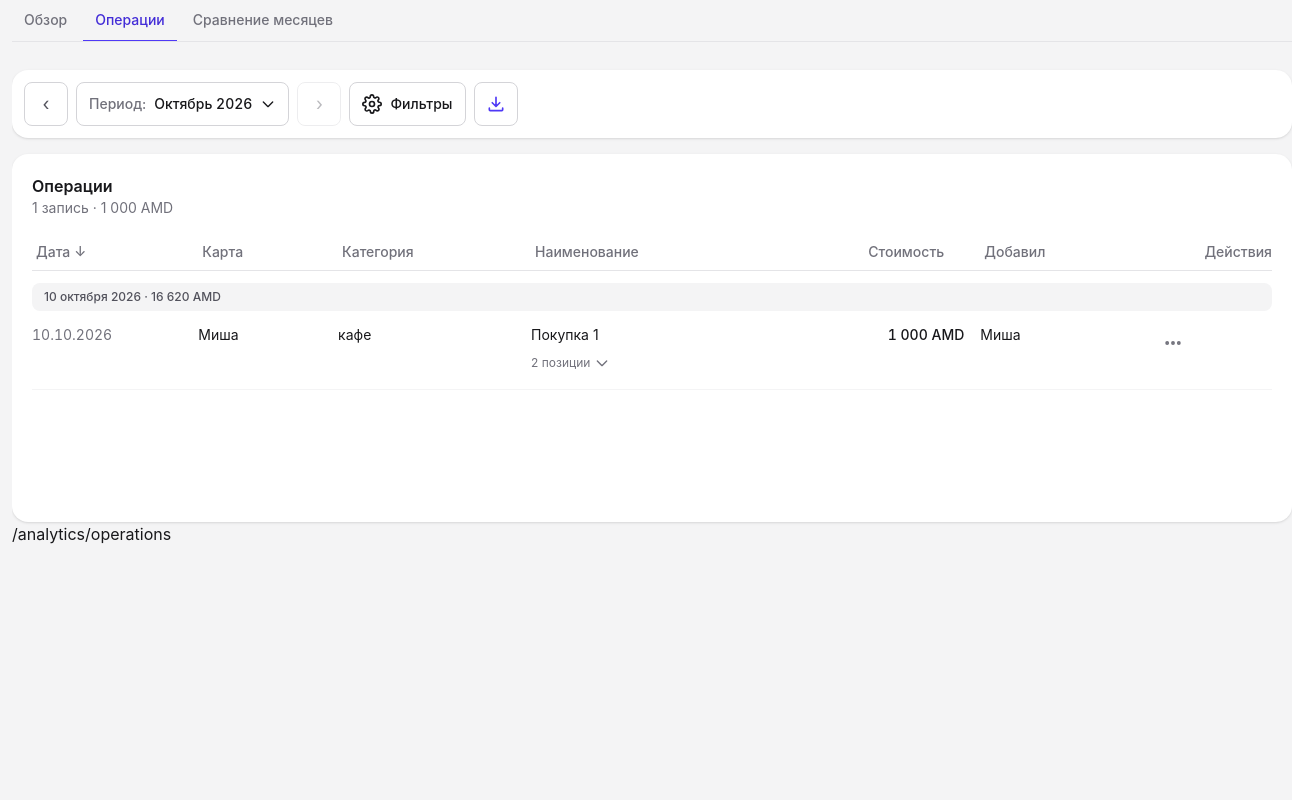
Test case: таблица на десктопе: заголовки дней › раскрытие позиций и меню строки работают в сгруппированной таблице
Click the button "2 позиции".
click(575, 363)  # box [531,347,618,379]
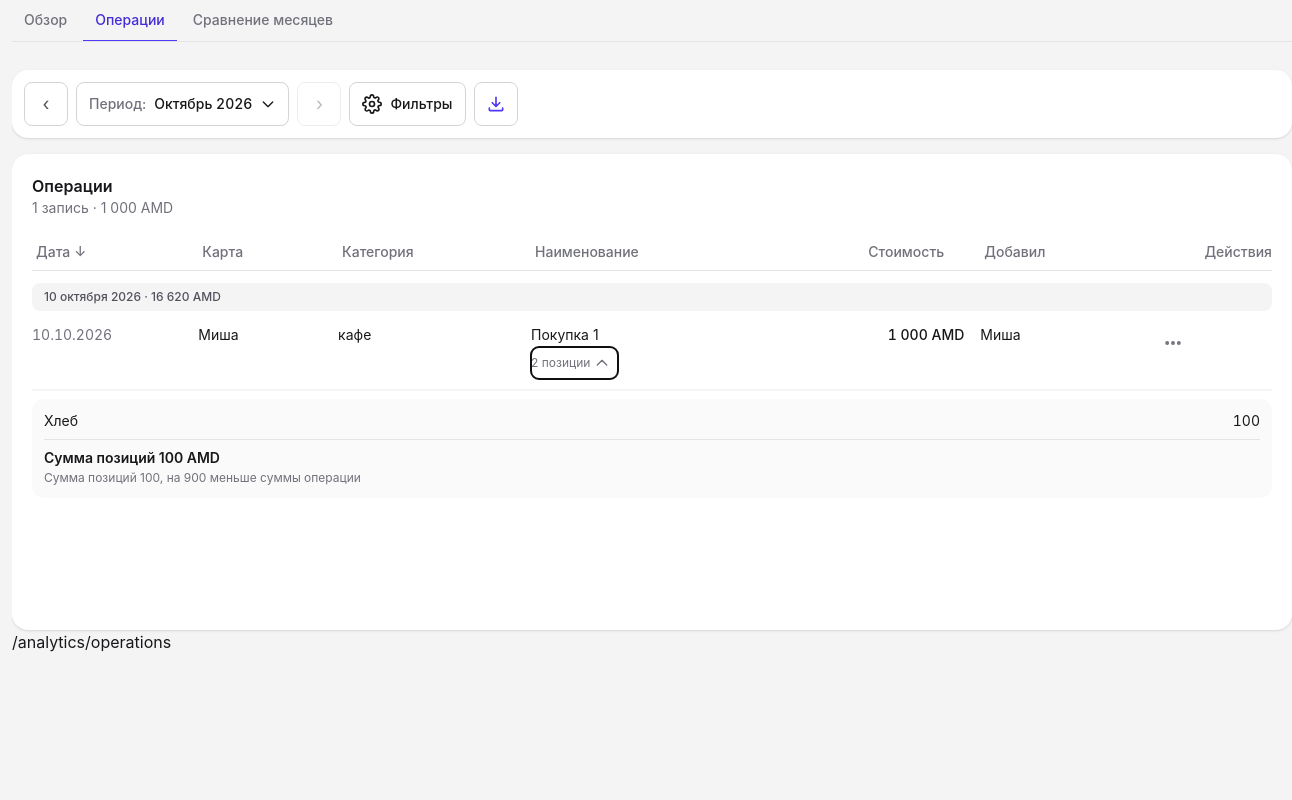
Check: the button named "Действия" is shown, box [1155,325,1191,361]
Check: the list named "Позиции" is shown, box [44,412,1260,429]
